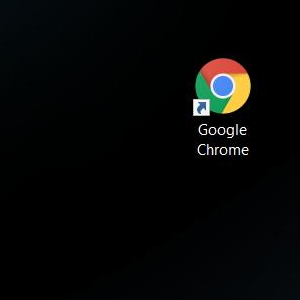chrome: (192, 57, 251, 117)
